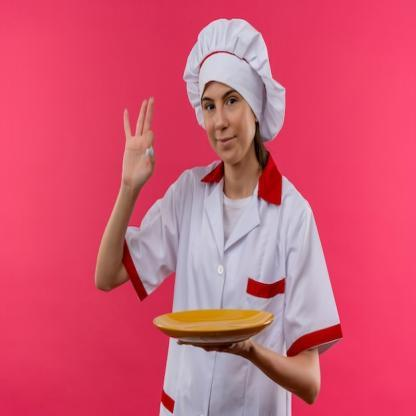ok: (119, 92, 160, 192)
